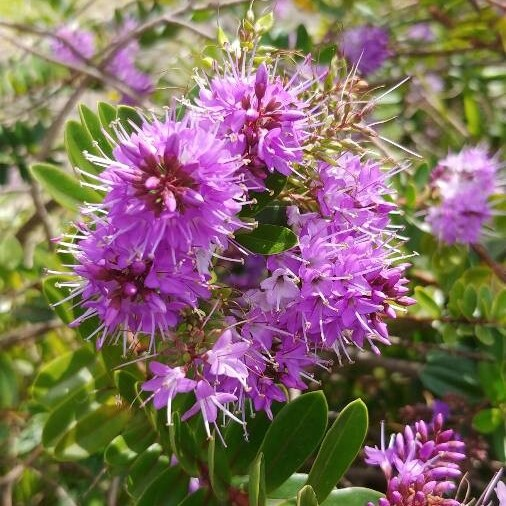obstacle: (50, 46, 403, 503)
